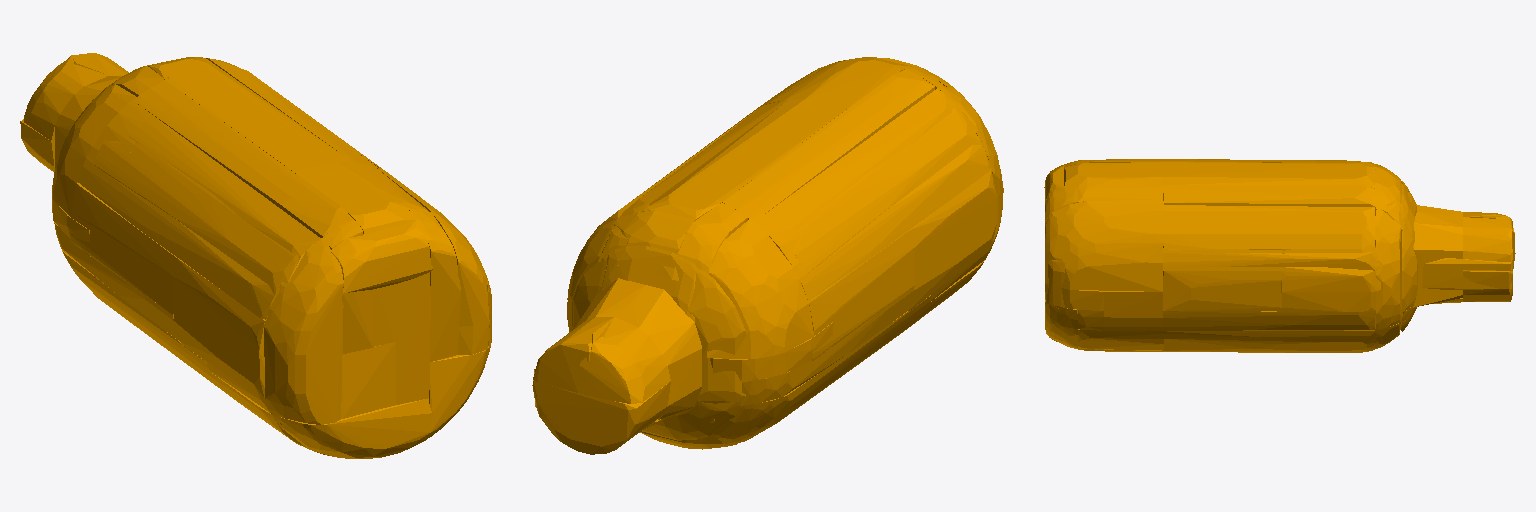
robot.urdf — bottle-baby:
<?xml version="1.0" ?>
<robot name="bottle-baby">
  <link name="baseLink">
    <contact>
      <lateral_friction value="1.0"/>
      <inertia_scaling value="3.0"/>
    </contact>
    <inertial>
      <origin rpy="0 0 0" xyz="0.000 0.000 0.000"/>
       <mass value=".1"/>
       <inertia ixx="1" ixy="0.0" ixz="0.0" iyy="1" iyz="0.0" izz="1"/>
    </inertial>
    <visual>
      <origin rpy="0 0 0" xyz="0 0 0"/>
      <geometry>
        <mesh filename="bottle/bottle-baby_cleansing_water.obj" scale="1.0 1.0 1.0"/>
      </geometry>
    </visual>
    <collision>
      <origin rpy="0 0 0" xyz="0 0 0"/>
      <geometry>
        <mesh filename="../collision/bottle/bottle-baby_cleansing_water.obj" scale="1.0 1.0 1.0"/>
      </geometry>
    </collision>
  </link>
</robot>
        

--- Facts derived from the render (not from the file) ---
The picture shows the robot from 3 angles, left to right: view 1: azimuth 30°, elevation 25°; view 2: azimuth 150°, elevation 25°; view 3: azimuth 270°, elevation 25°; orthographic projection.
Model bottle-baby with 1 links and 0 joints (none), rooted at baseLink, posed all joints at 0.
Links seen in each view (by area): view 1: baseLink; view 2: baseLink; view 3: baseLink.
Link boxes in pixels (box(x1,y1,x2,y2)): baseLink: box(20, 53, 491, 458); baseLink: box(532, 57, 1003, 454); baseLink: box(1044, 159, 1515, 352).
Size in the robot's own frame: 0.0582 by 0.1425 by 0.0582 metres.
Meshes: 1 distinct files referenced, 1 mesh visuals loaded (1 OBJ).
